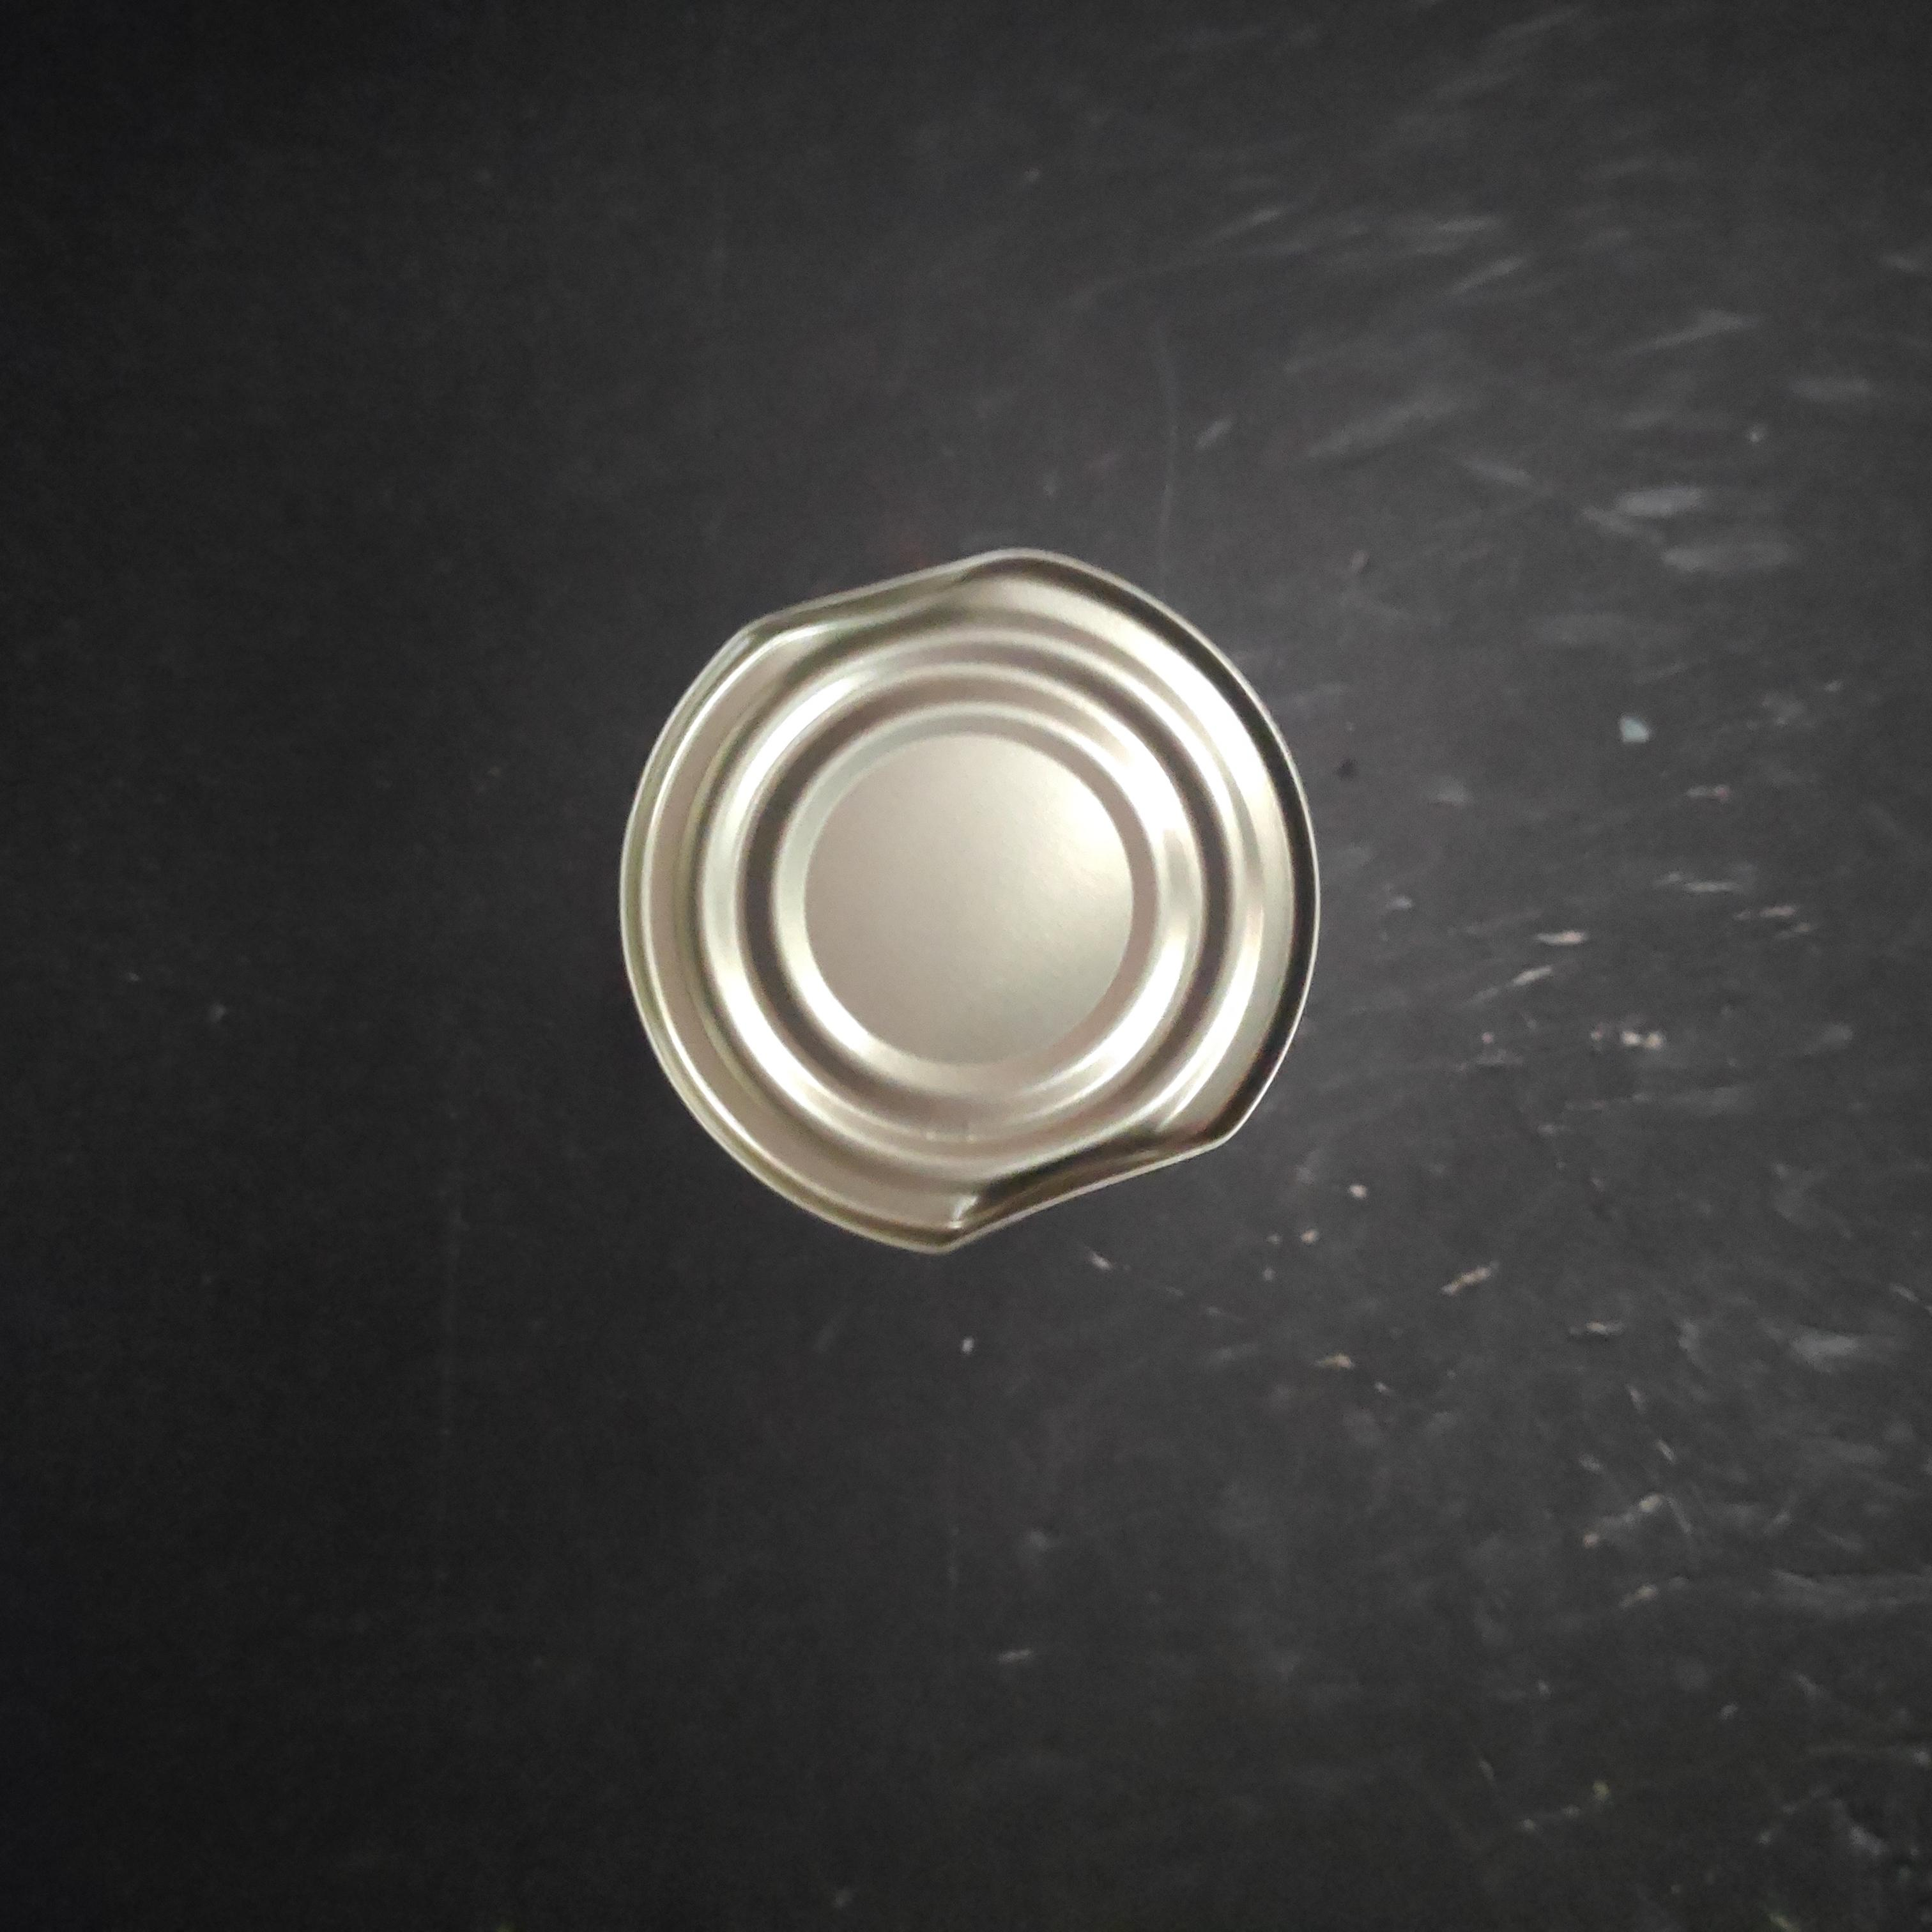Minor Defect: (605, 538, 1334, 1272)
